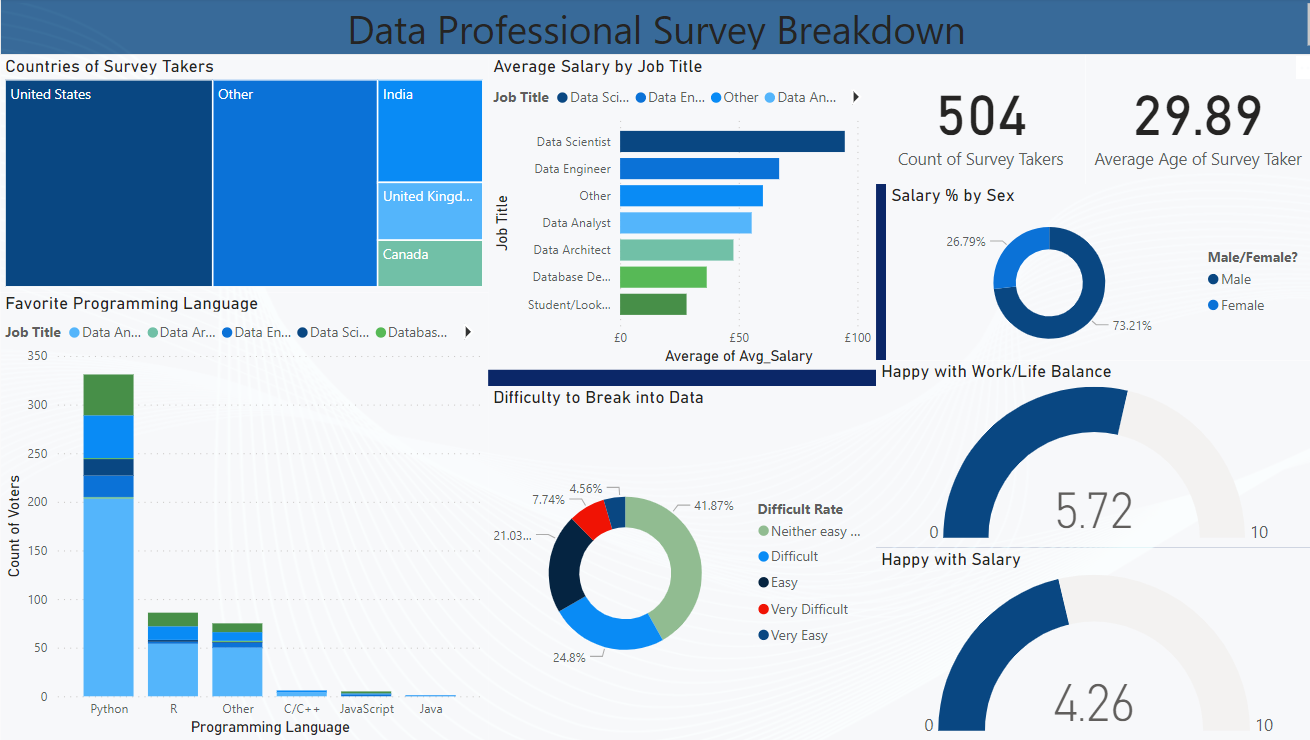

The dashboard page shown, as its layout file describes it:
{"tool":"powerbi","page":{"name":"Page 1","canvas":[1280,720],"ordinal":0},"visuals":[{"type":"textbox","box":[0,0,1280,55.4],"z":0},{"type":"card","fields":{"Values":["Count(Data Analyst Professional Survey.Unique ID)"]},"box":[848.8,55.2,202.5,125],"z":1000},{"type":"card","fields":{"Values":["Avg(Data Analyst Professional Survey.Q10 - Current Age)"]},"box":[1051.3,55.2,219,125],"z":2000},{"type":"barChart","title":"Average Salary by Job Title","fields":{"Category":["Data Analyst Professional Survey.Q1 - Which Title Best Fits your Current Role?.1"],"Y":["Avg(Data Analyst Professional Survey.Avg_Salary)"],"Series":["Data Analyst Professional Survey.Q1 - Which Title Best Fits your Current Role?.1"]},"box":[472.9,55.2,376,305.2],"z":3000},{"type":"columnChart","title":"Favorite Programming Language","fields":{"Category":["Data Analyst Professional Survey.Q5 - Favorite Programming Language.1"],"Y":["CountNonNull(Data Analyst Professional Survey.Unique ID)"],"Series":["Data Analyst Professional Survey.Q1 - Which Title Best Fits your Current Role?.1"]},"box":[0,284.9,472.9,435.1],"z":4000},{"type":"treemap","title":"Countries of Survey Takers","fields":{"Group":["Data Analyst Professional Survey.Q11 - Which Country do you live in?.1"],"Values":["CountNonNull(Data Analyst Professional Survey.Q11 - Which Country do you live in?.1)"]},"box":[0,55.2,472.9,229.6],"z":5000},{"type":"gauge","title":"Happy with Work/Life Balance","fields":{"Y":["Avg(Data Analyst Professional Survey.Q6 - How Happy are you in your Current Position with the following? (Work/Life Bala"],"MinValue":["Min(Data Analyst Professional Survey.Q6 - How Happy are you in your Current Position with the following? (Work/Life Bala"],"MaxValue":["Max(Data Analyst Professional Survey.Q6 - How Happy are you in your Current Position with the following? (Work/Life Bala"]},"box":[848.8,350.8,431.2,182.2],"z":6000},{"type":"gauge","title":"Happy with Salary","fields":{"Y":["Avg(Data Analyst Professional Survey.Q6 - How Happy are you in your Current Position with the following? (Salary))"],"MinValue":["Min(Data Analyst Professional Survey.Q6 - How Happy are you in your Current Position with the following? (Salary))"],"MaxValue":["Max(Data Analyst Professional Survey.Q6 - How Happy are you in your Current Position with the following? (Salary))"]},"box":[848.8,532.9,431.2,187],"z":7000},{"type":"donutChart","title":"Salary % by Sex","fields":{"Category":["Data Analyst Professional Survey.Q9 - Male/Female?"],"Y":["CountNonNull(Data Analyst Professional Survey.Q3 - Current Yearly Salary (in USD))"]},"box":[858.5,180.2,421.5,170.5],"z":8000},{"type":"donutChart","title":"Difficulty to Break into Data","fields":{"Category":["Data Analyst Professional Survey.Q7 - How difficult was it for you to break into Data?"],"Y":["CountNonNull(Data Analyst Professional Survey.Q7 - How difficult was it for you to break into Data?)"]},"box":[472.9,376,376,344],"z":9000}]}

Visuals, with their boxes in screenshot pixels (x1, y1, x2, y2), scaled from the page's 1280x720 canvas onto the 1310x740 screenshot:
textbox: crop(0, 0, 1309, 57)
card - Count(Data Analyst Professional Survey.Unique ID): crop(869, 57, 1076, 185)
card - Avg(Data Analyst Professional Survey.Q10 - Current Age): crop(1076, 57, 1300, 185)
"Average Salary by Job Title" barChart: crop(484, 57, 869, 370)
"Favorite Programming Language" columnChart: crop(0, 293, 484, 739)
"Countries of Survey Takers" treemap: crop(0, 57, 484, 293)
"Happy with Work/Life Balance" gauge: crop(869, 361, 1309, 548)
"Happy with Salary" gauge: crop(869, 548, 1309, 739)
"Salary % by Sex" donutChart: crop(879, 185, 1309, 360)
"Difficulty to Break into Data" donutChart: crop(484, 386, 869, 739)
